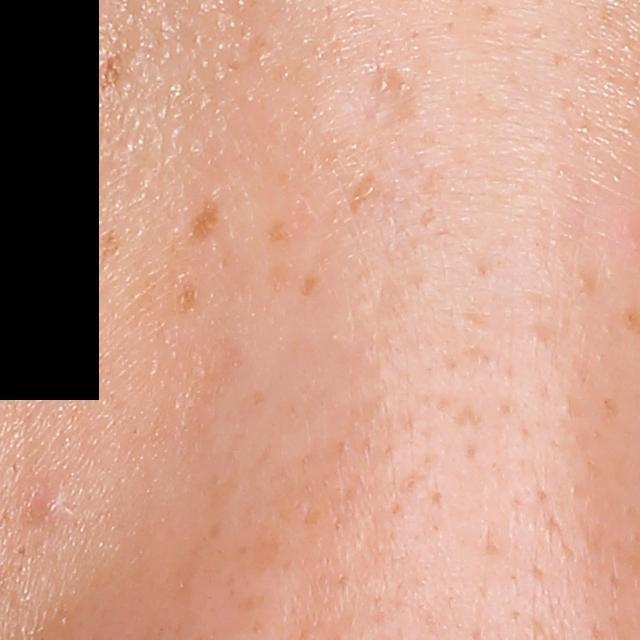melasma: (186, 188, 229, 245), (345, 166, 387, 218), (262, 211, 296, 247), (176, 276, 202, 315), (295, 270, 324, 298), (100, 224, 121, 262)
papule: (30, 478, 73, 519)
